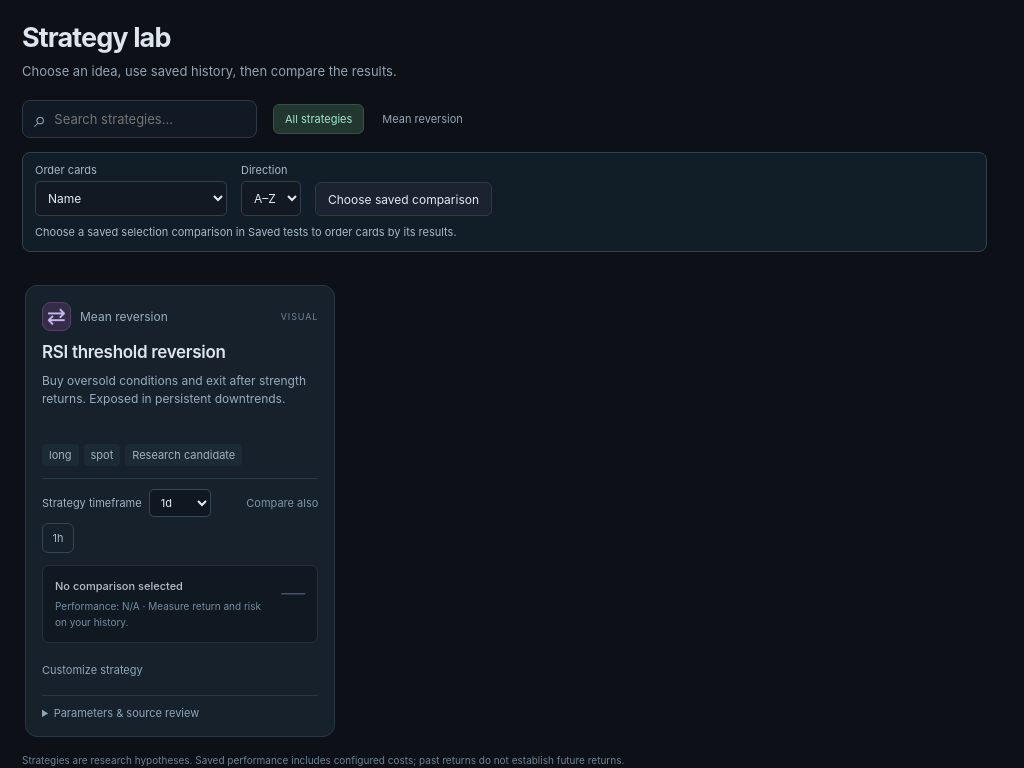
Test: shows copy errors without navigating or granting consent
The width and height of the screenshot is (1024, 768).
Click the button "Customize strategy": (92, 670) [42,655,143,685]
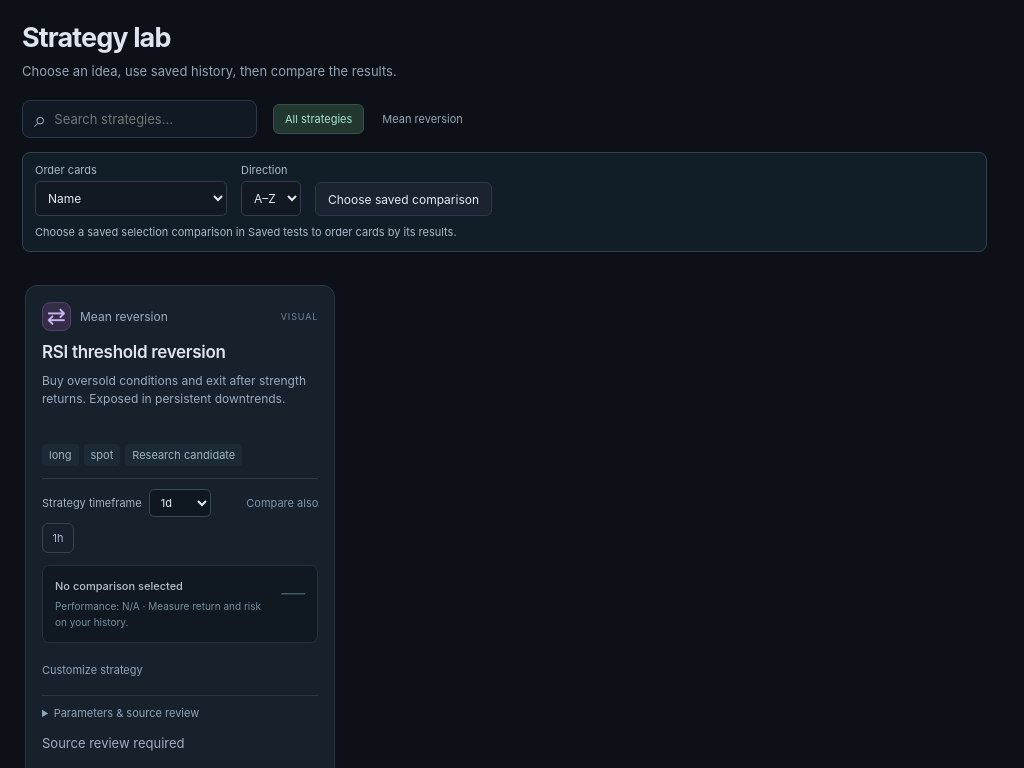
Expected: the message "Source review required" is shown, [42,735,184,751]
